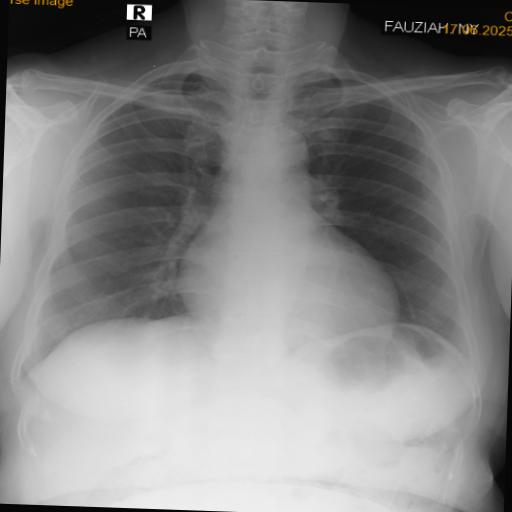kardiomegali: (12, 42, 497, 412)
